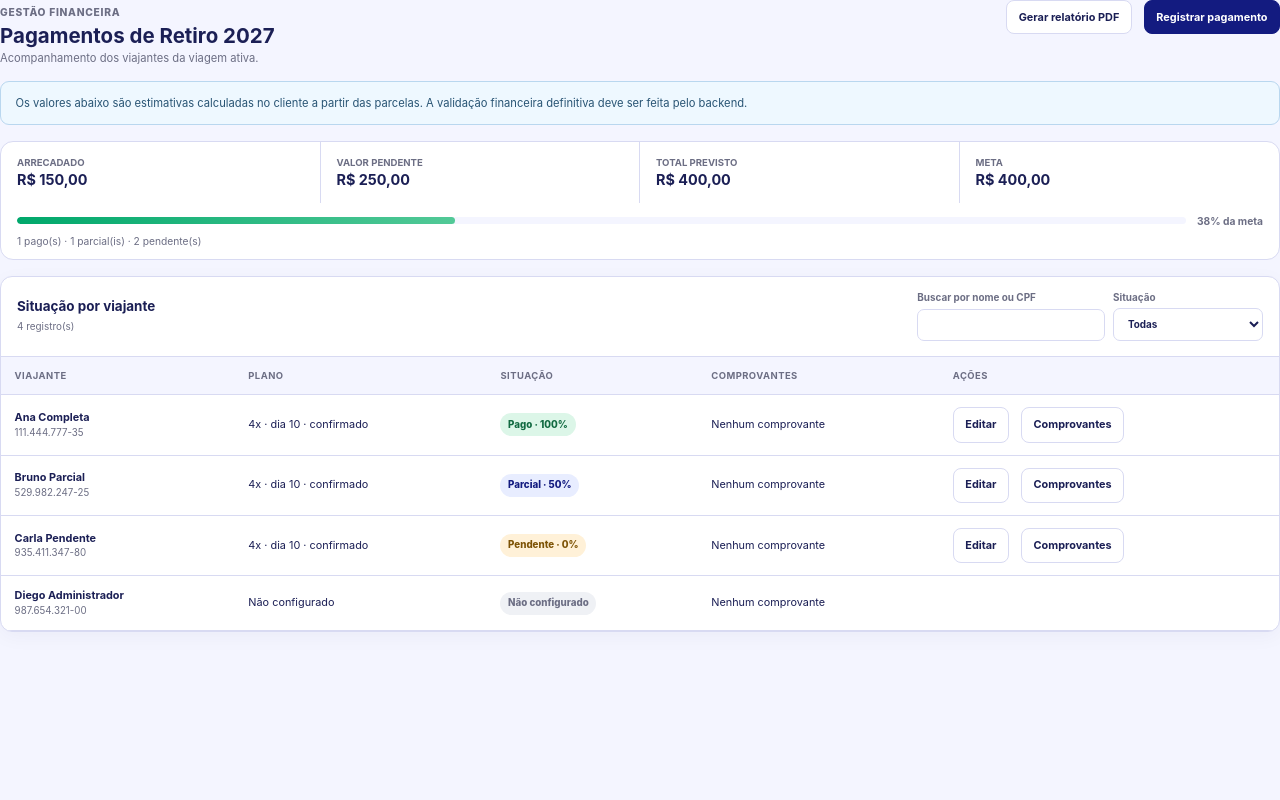
it: AdminPaymentsPage › só anuncia confirmação depois da resposta de persistência
This screenshot has width=1280, height=800.
Click the button "Editar" in the row of "Ana Completa": [981, 425] box [953, 407, 1009, 443]
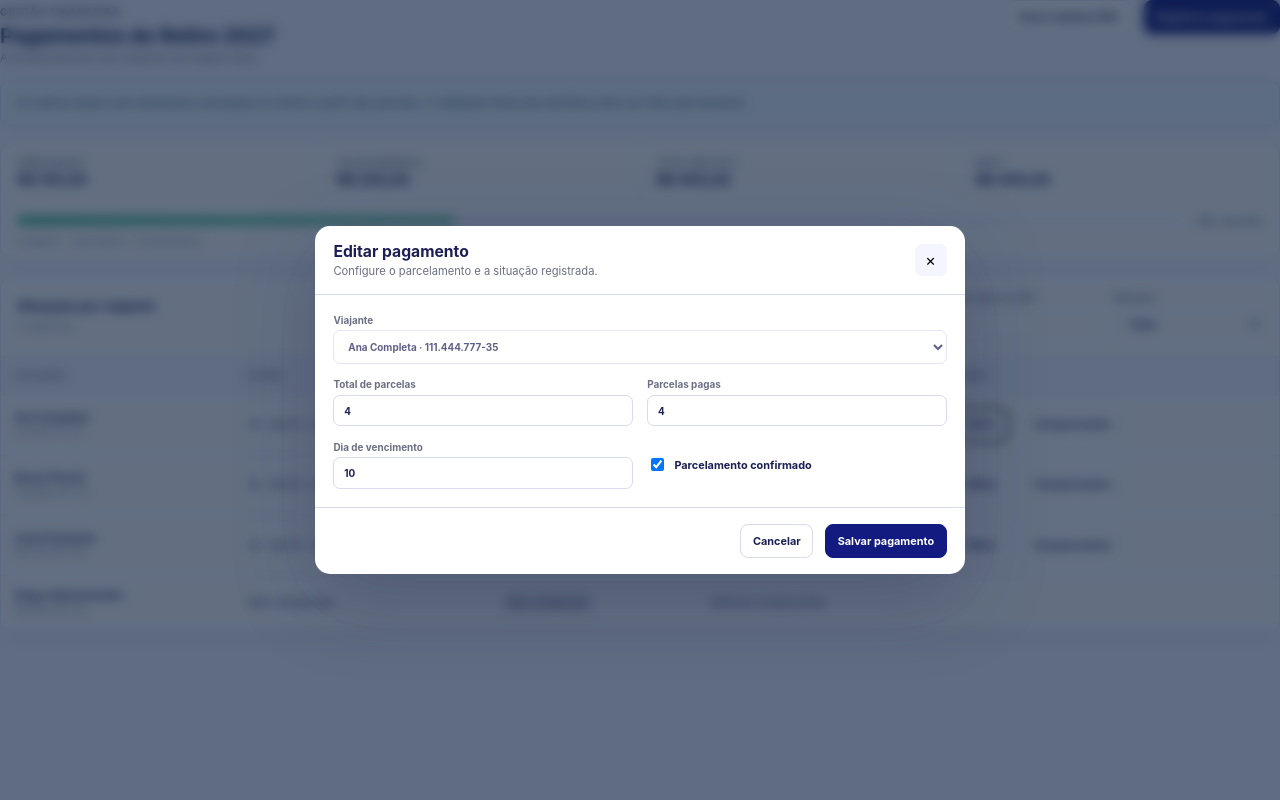
Click the button "Salvar pagamento": [886, 541] box [825, 524, 947, 558]
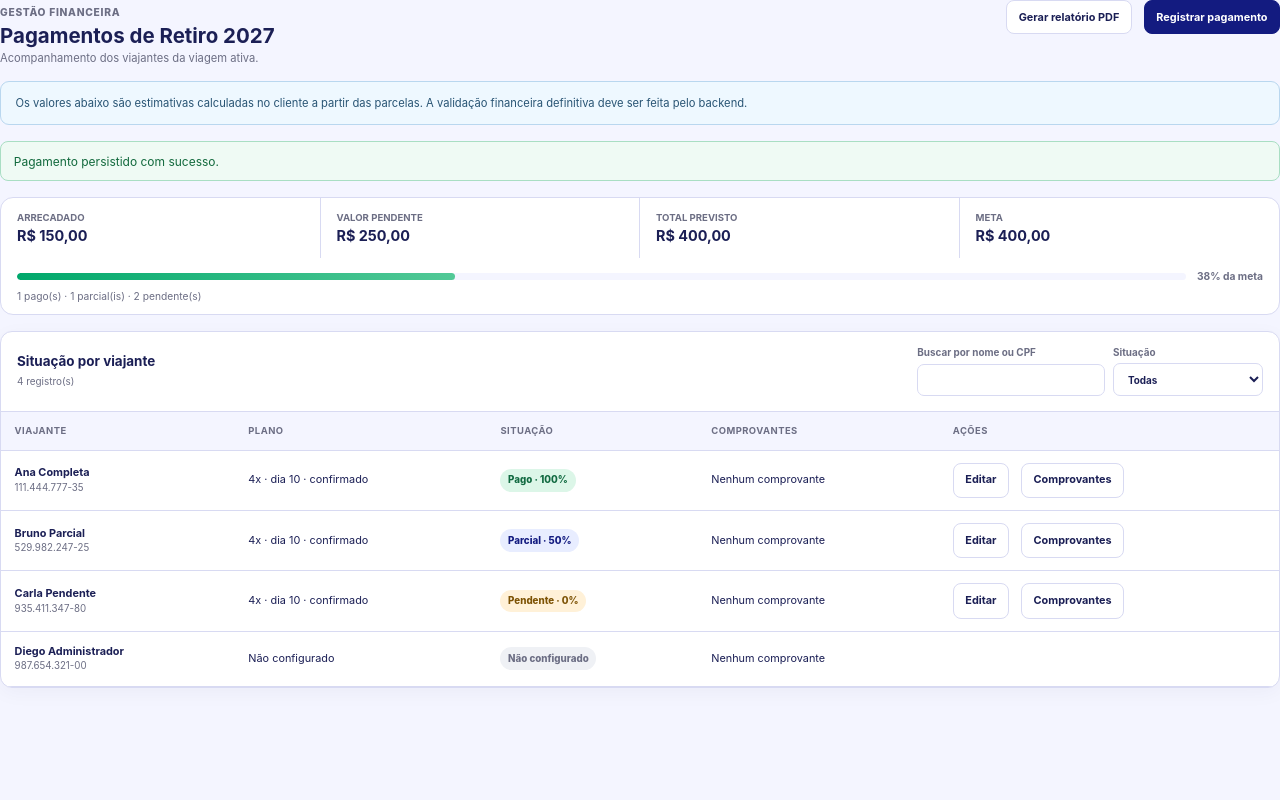
Expected: the text "Pagamento persistido com sucesso." is shown, [0, 141, 1279, 181]
